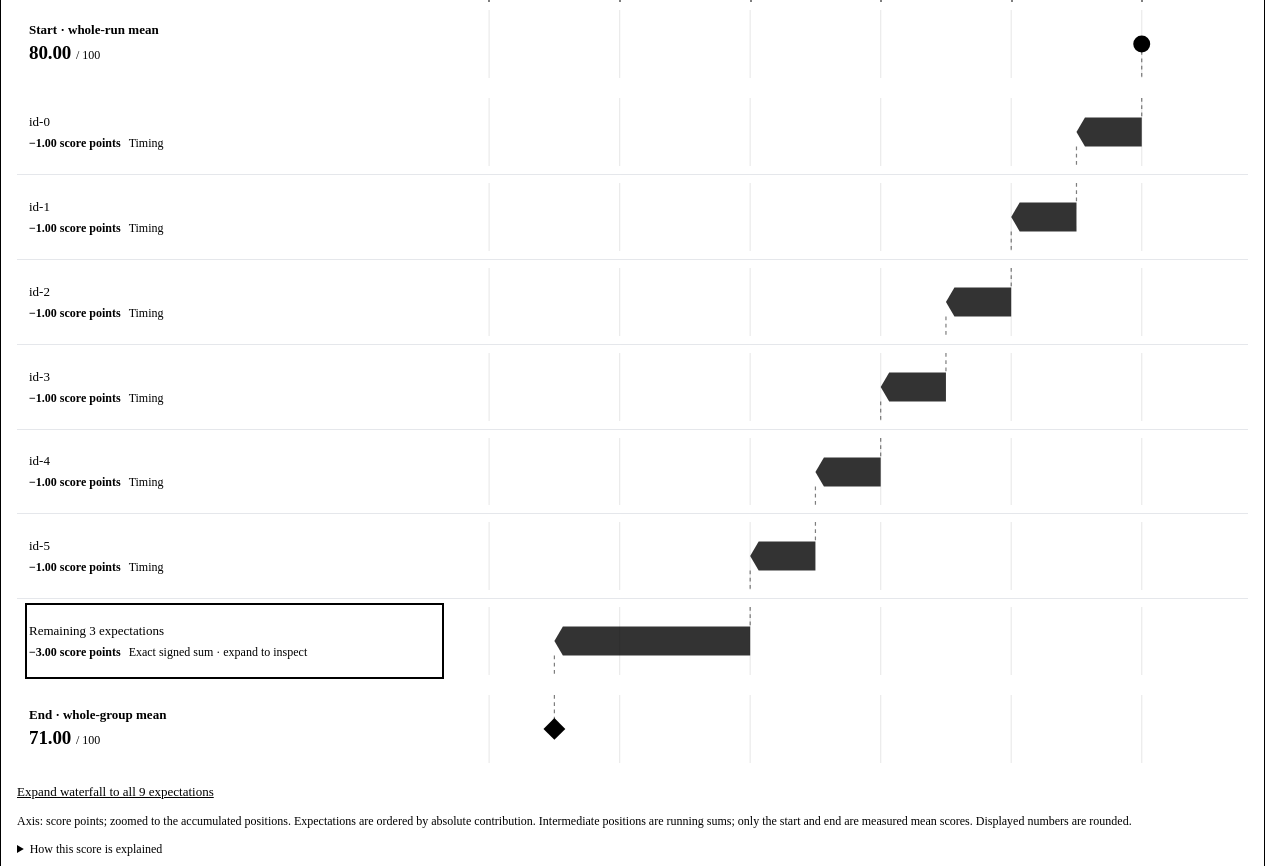
Test: expands the exact remainder into individually selectable expectations
The image size is (1280, 866).
(page scrolled)
Press Enter
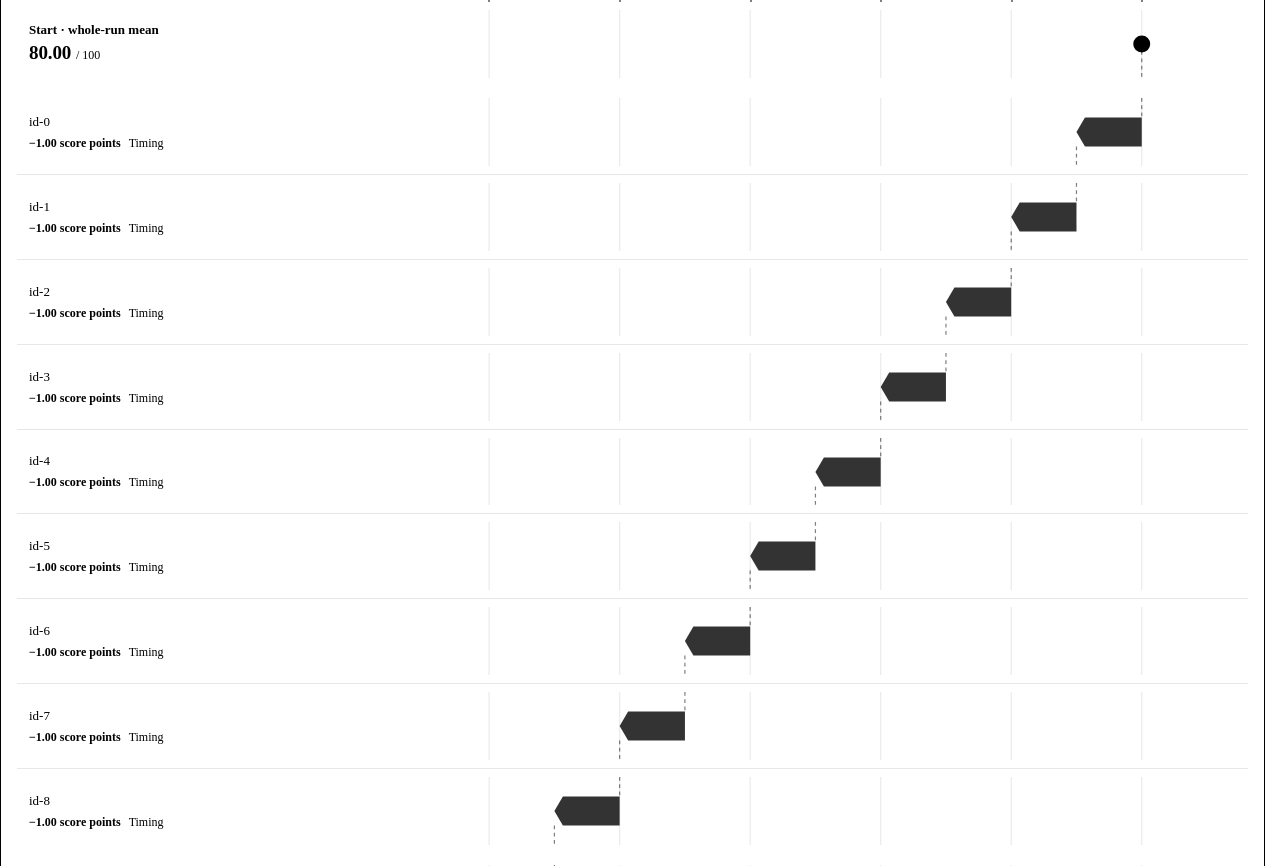
Click the button with aria-label "Inspect id-8: −1.00 score points": x=89, y=822 left=29, top=777, right=440, bottom=845
(page scrolled)
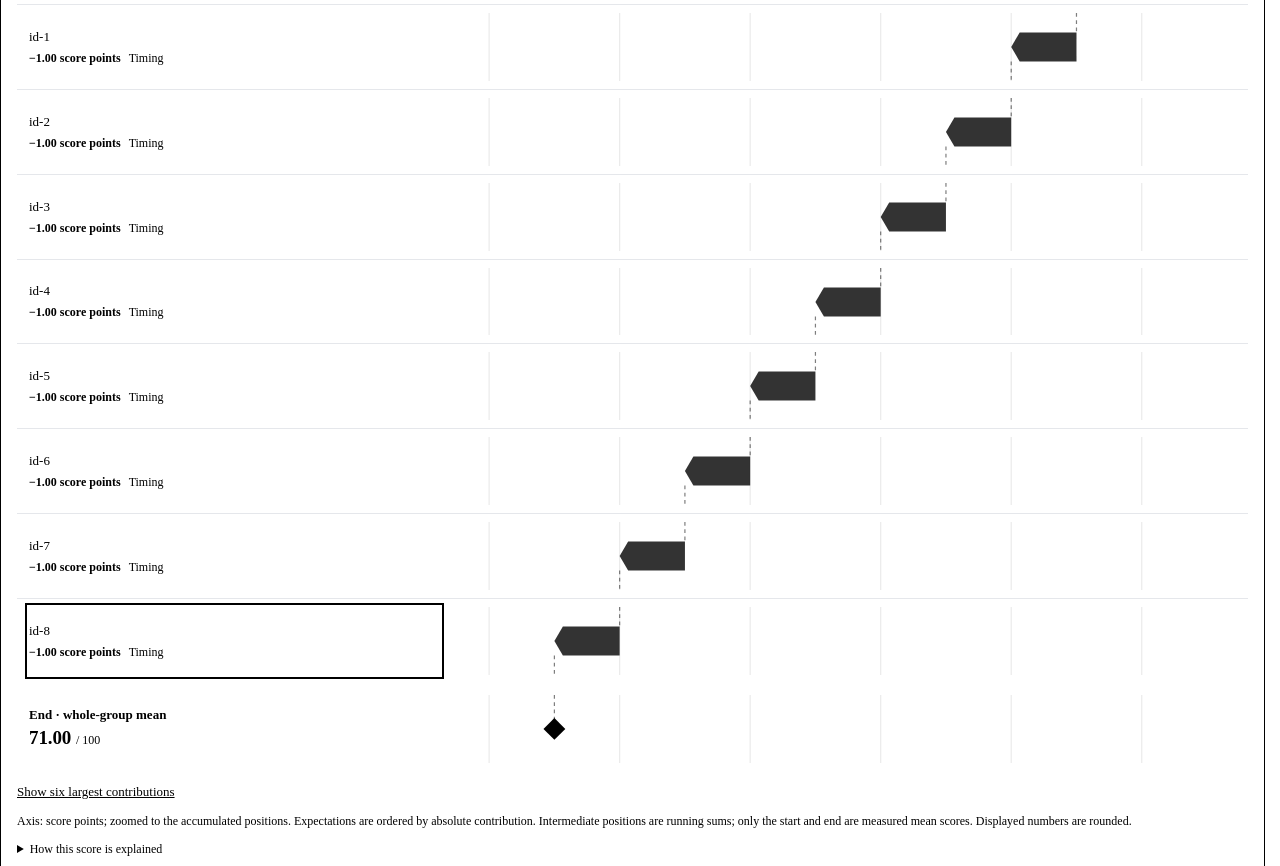
Click the button "Show six largest contributions": x=96, y=792 left=17, top=783, right=175, bottom=801
(page scrolled)
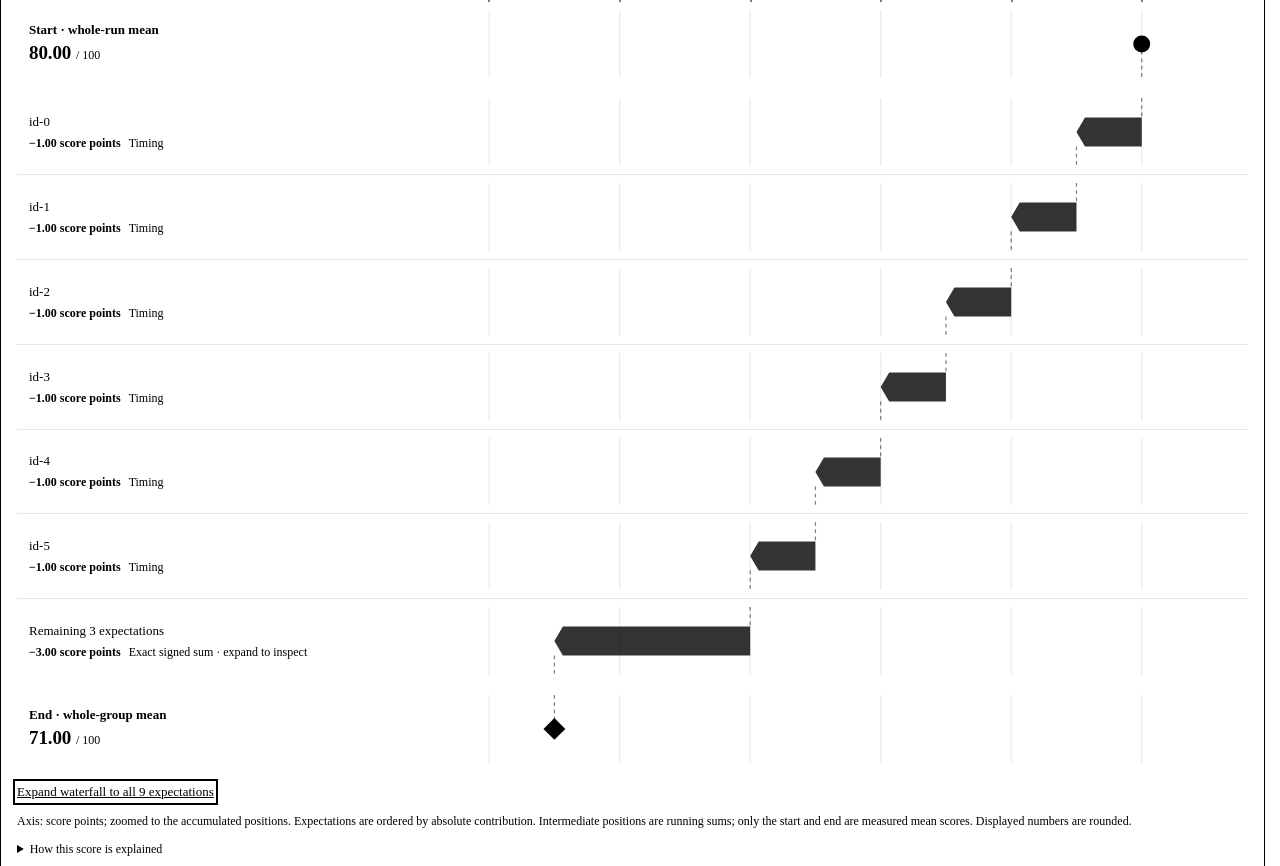
expect the button with aria-label "Expand Remaining 3 expectations: −3.00 score points" is shown: met, box left=29, top=607, right=440, bottom=675
